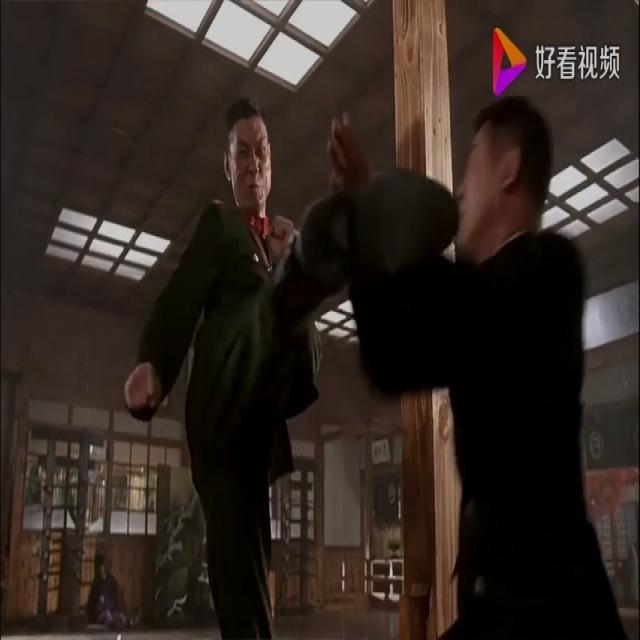fight: (101, 73, 623, 639)
